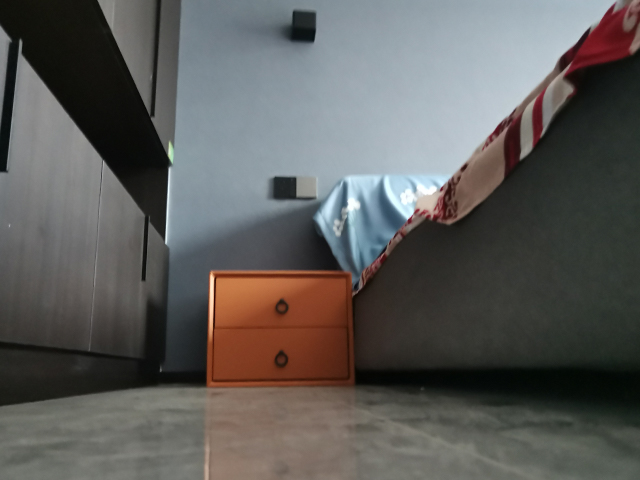bed: (311, 1, 639, 383)
cabinet: (1, 1, 180, 407), (203, 268, 357, 389)
